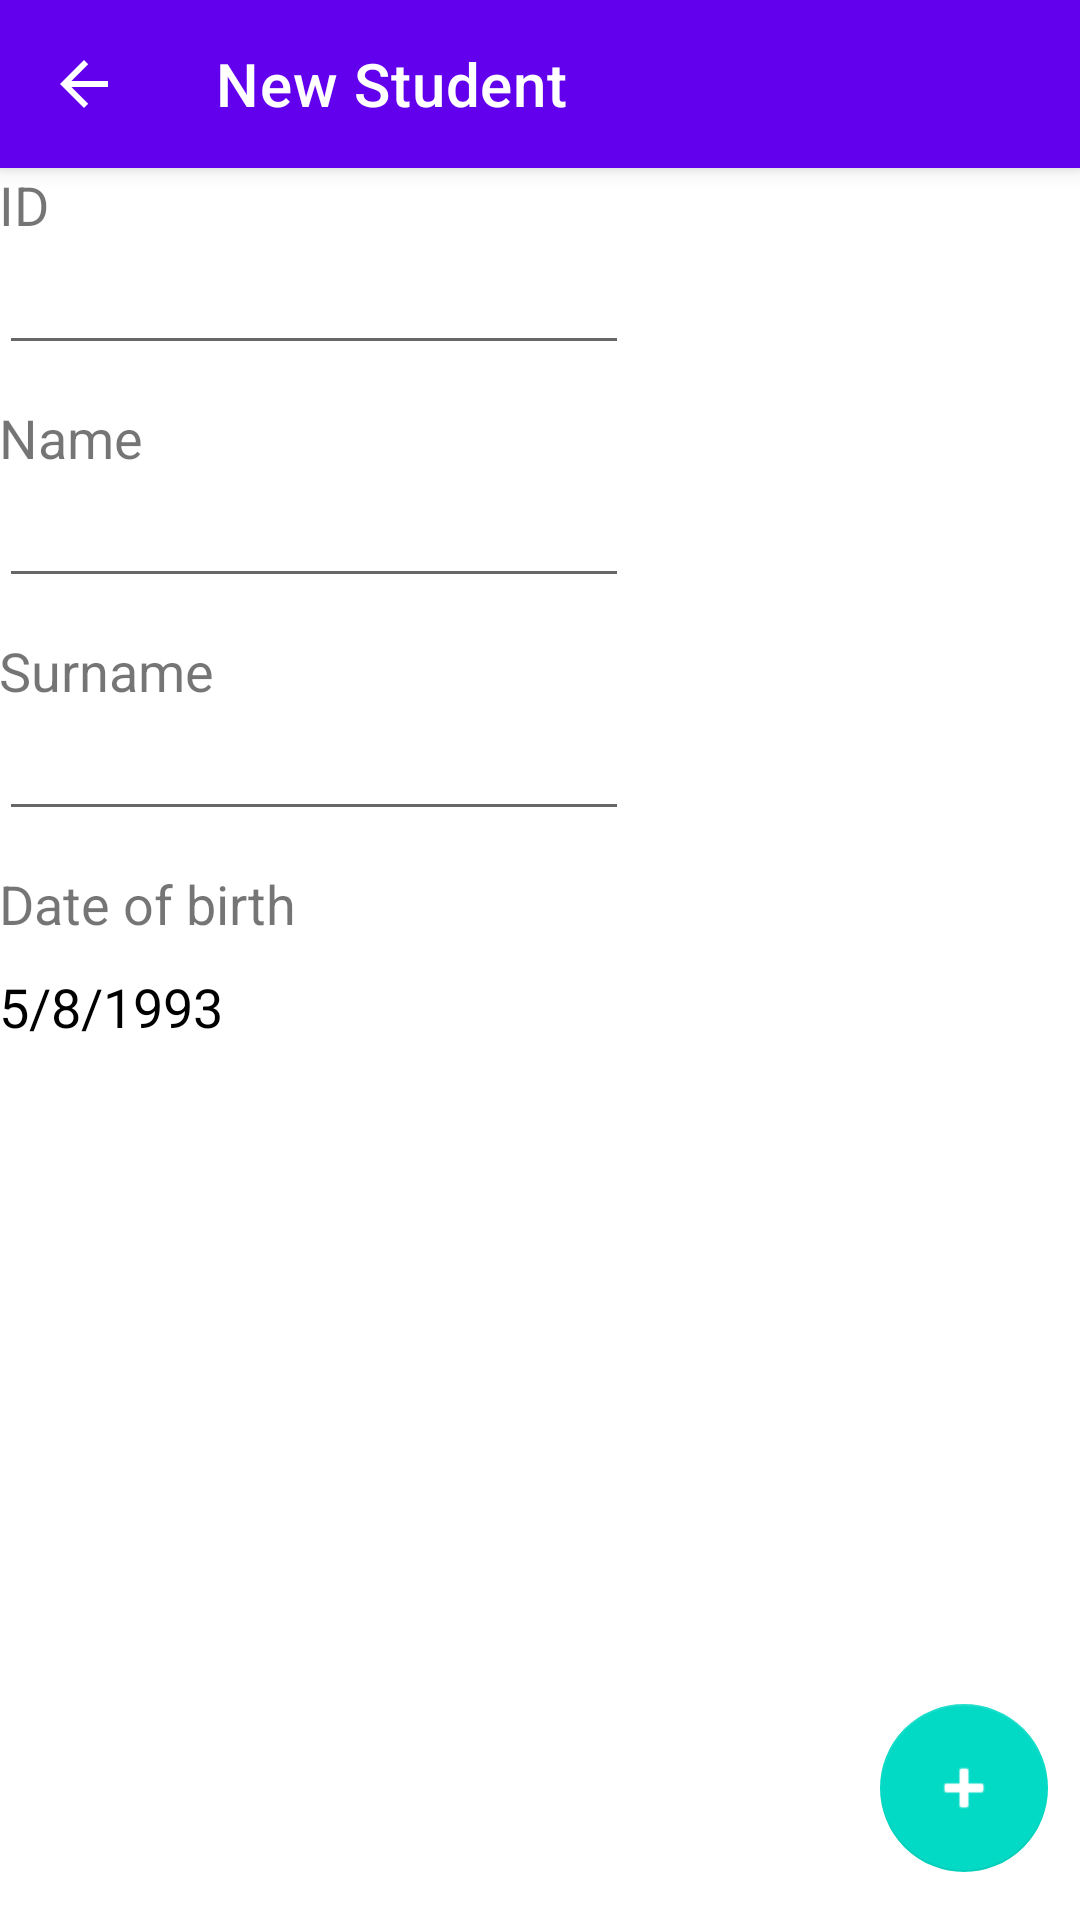

Named icons in this screenshot (1080 x 1920) and their bounding boxes, (x1, y1, x2, y2):
add: (880, 1704, 1048, 1872)
